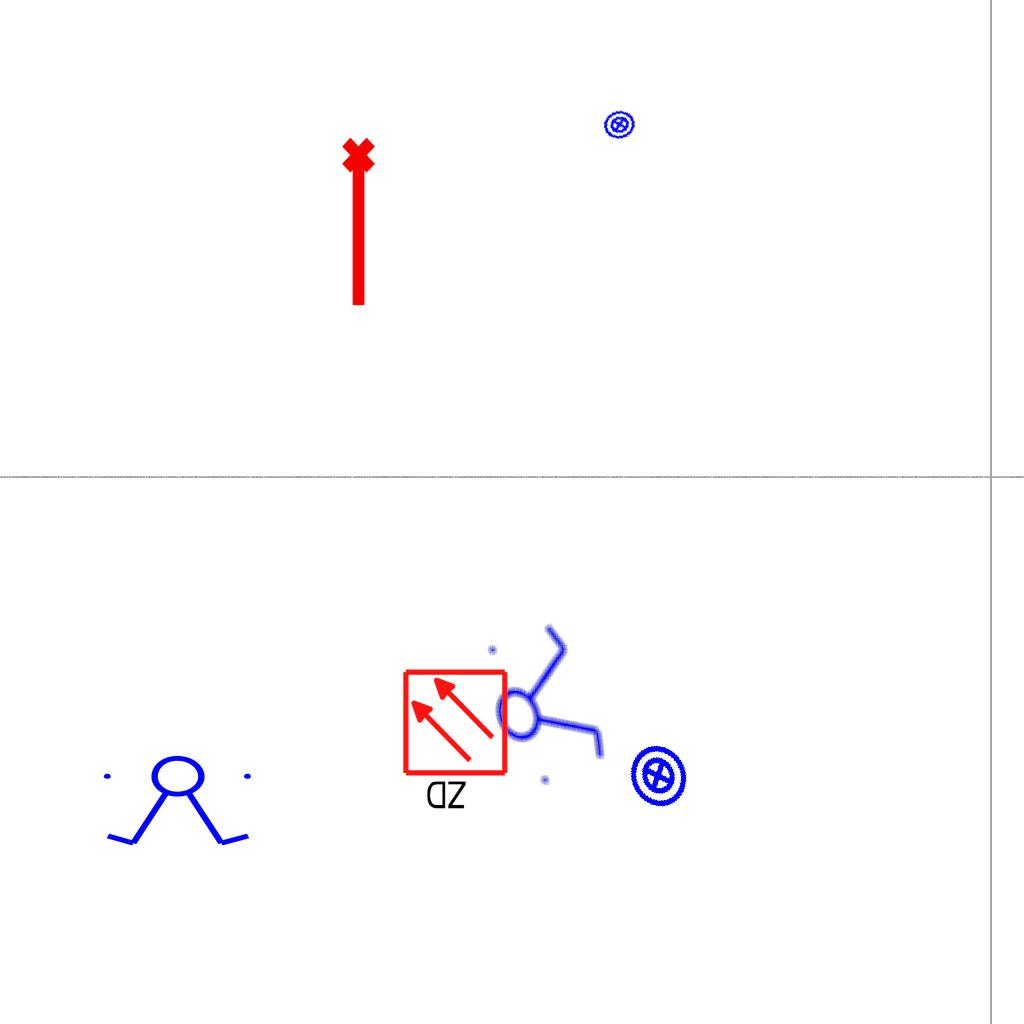ASR_Ansaugoeffnung: (338, 135, 384, 311)
Serienschalter: (466, 608, 618, 800), (95, 754, 263, 850)
Taster_beleuchtet: (615, 733, 701, 819), (599, 104, 640, 145)
ZD_Melder_in_Zwischendecke_mit_Revisionsoeffnung_mind_40_x_40_cm: (400, 667, 514, 816)
